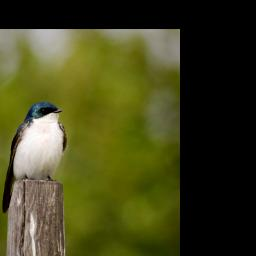Swallow: (2, 96, 69, 214)
